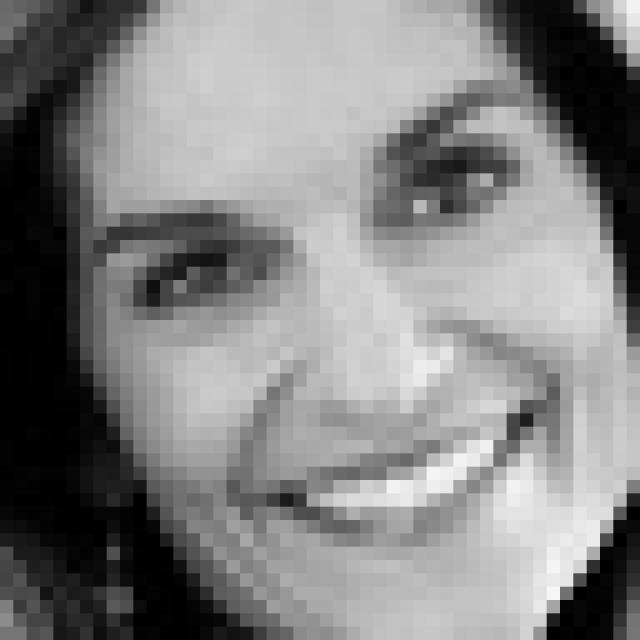happy: (86, 72, 580, 575)
